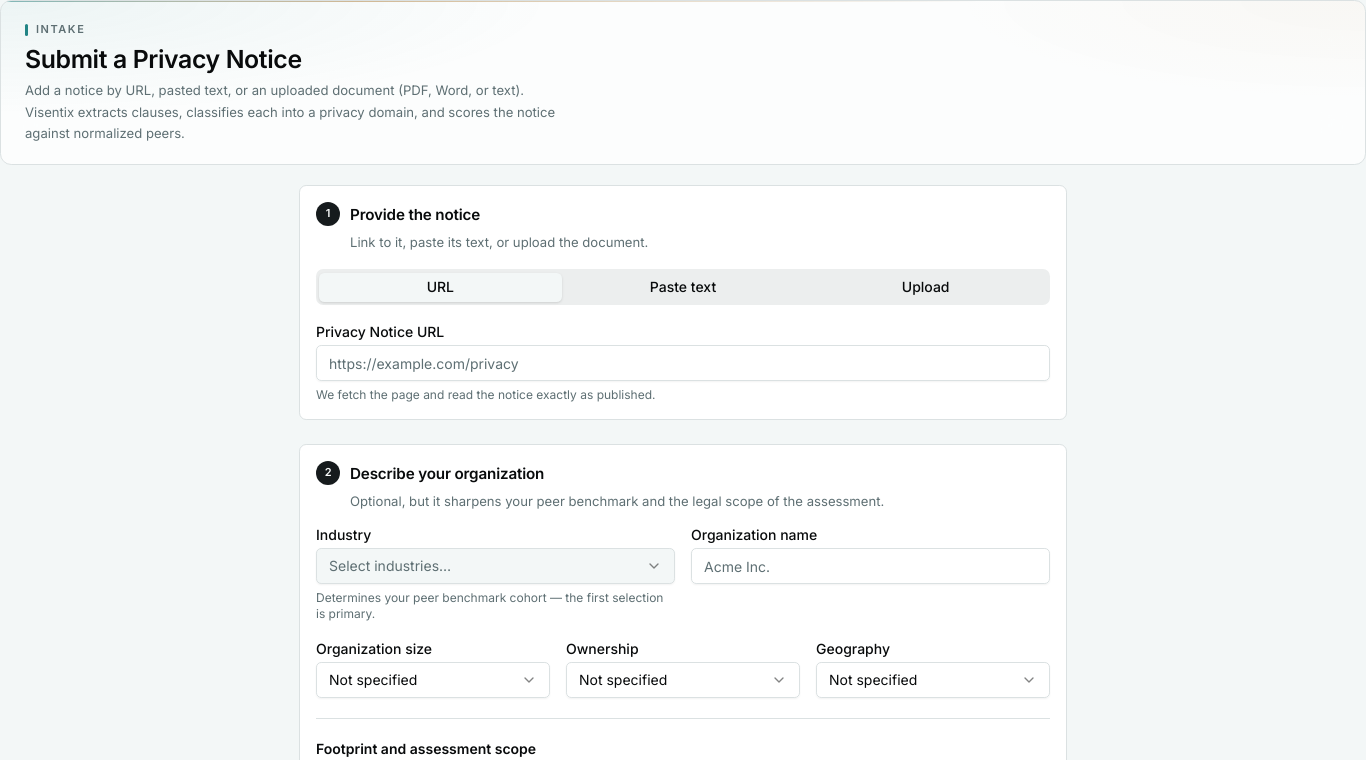
Test case: loads real options and shows the honest-degradation note when blank
Press the mouse on the button with test id "intake-industry" at x=390, y=566, box [316,548,675,584]
(page scrolled)
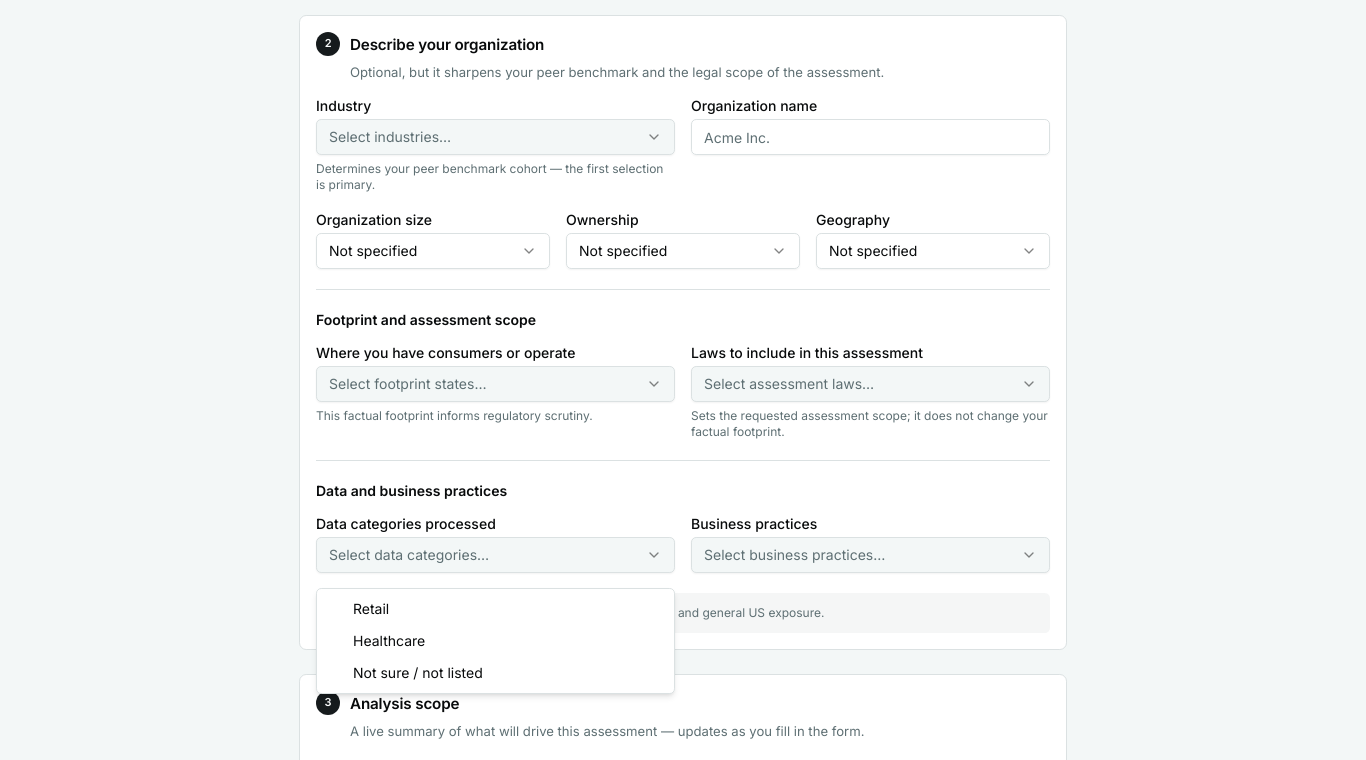
Now the menu item "Retail" is shown, box [353,600,389,617]
Press the mouse on the button with test id "intake-selected-laws" at x=870, y=384, box [691,366,1050,402]
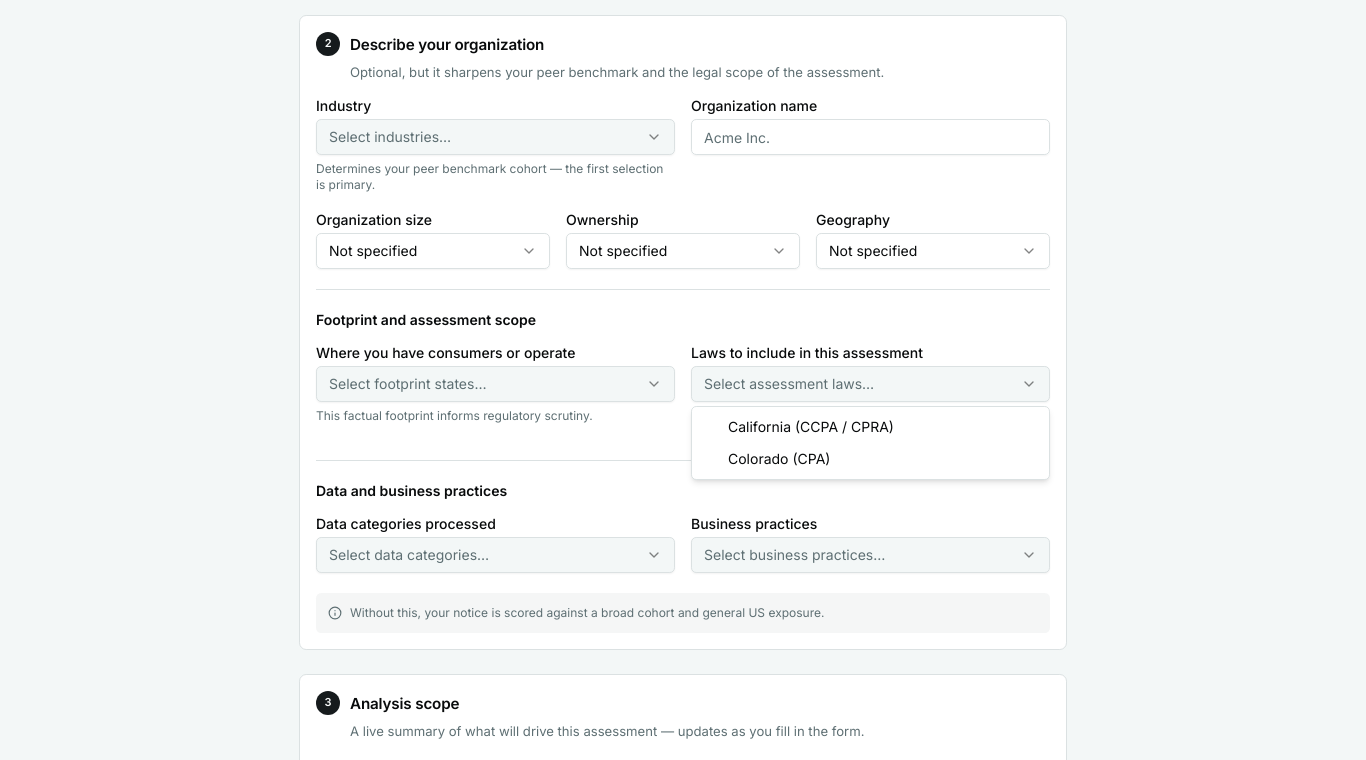
Expected: the element with test id "intake-filters-note" is shown, [316,593,1050,633]
Now the menu item "California (CCPA / CPRA)" is shown, box [728,418,894,435]
